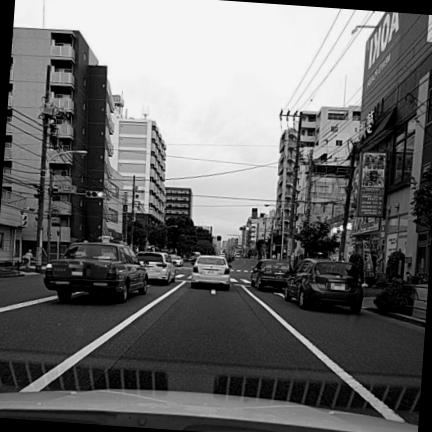Road: (0, 260, 424, 423)
